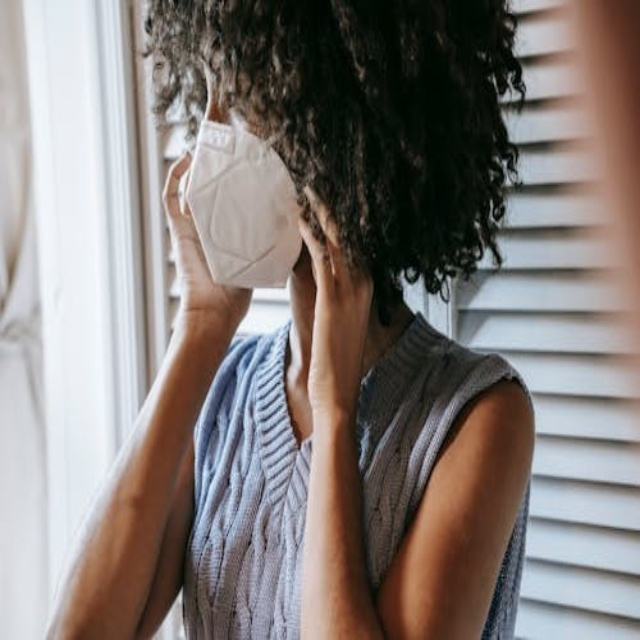Mascara: (177, 110, 306, 290)
Sin_gafas: (173, 50, 262, 125)
Sin_guantes: (292, 173, 378, 423), (155, 144, 252, 329)
